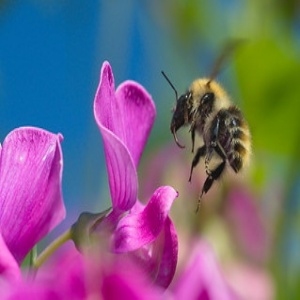bee: (163, 38, 258, 213)
